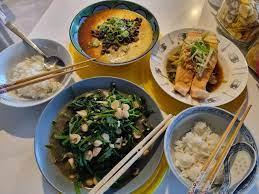Braised Crucian Carp: (34, 76, 166, 193), (149, 27, 248, 108), (68, 0, 157, 66)
